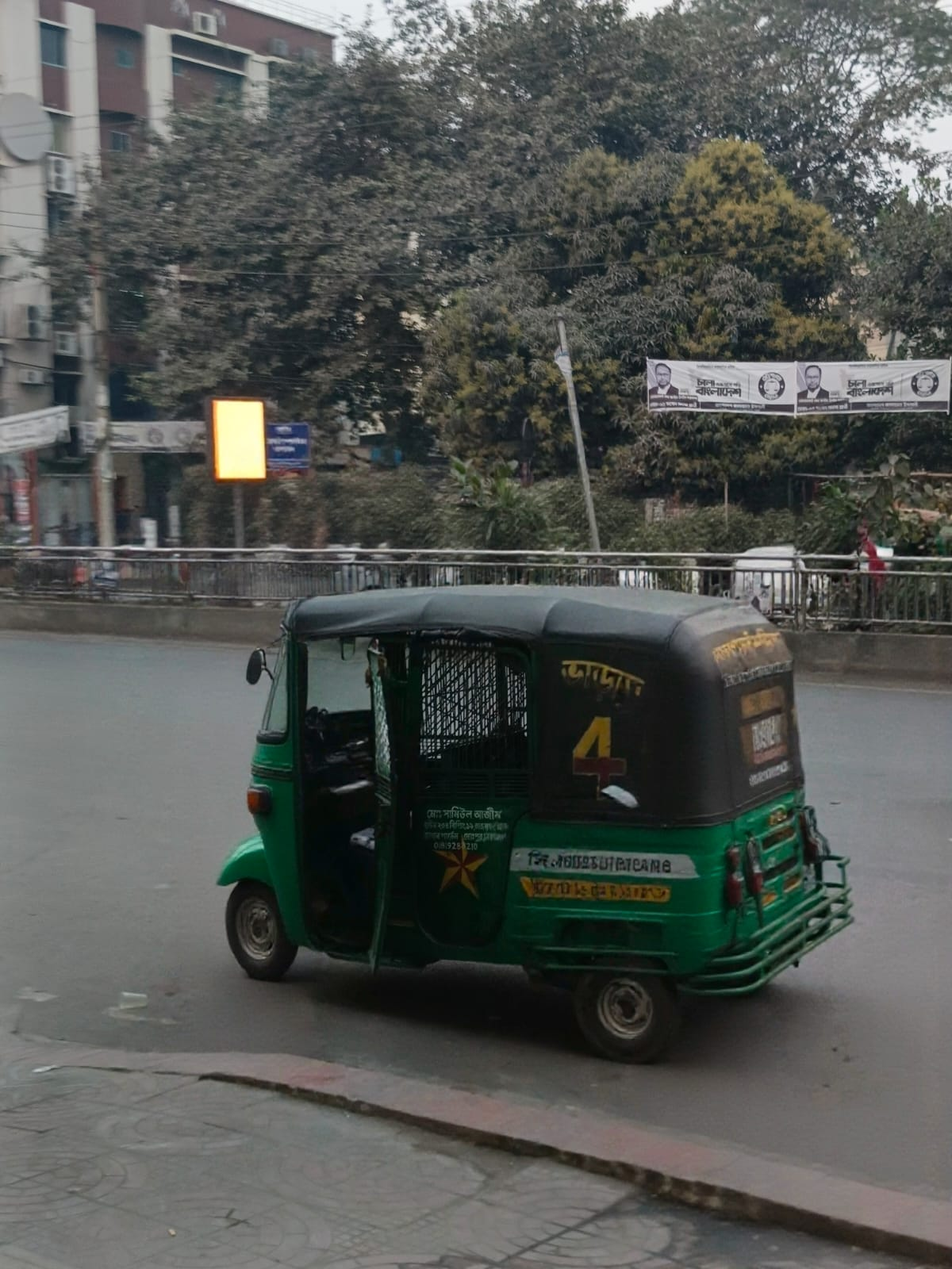cng: (132, 545, 933, 1111)
